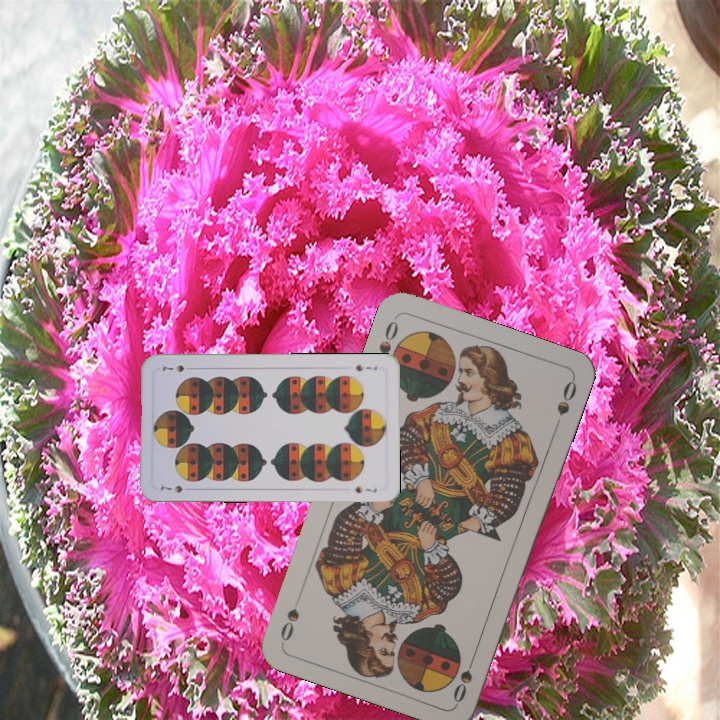S7: (157, 481, 185, 495), (351, 361, 380, 374)
SO: (449, 648, 479, 706), (374, 316, 401, 357)
